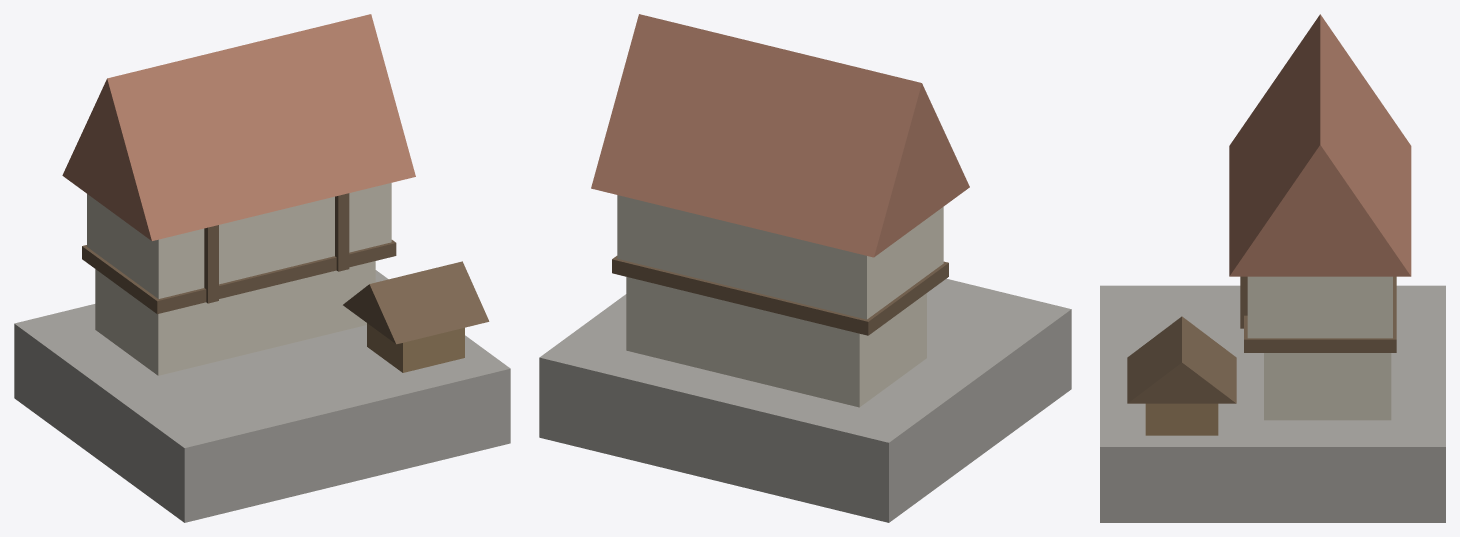
Rendered from house-medieval-1.glb.
The picture shows the model from 3 angles, left to right: view 1: azimuth 30°, elevation 25°; view 2: azimuth 150°, elevation 25°; view 3: azimuth 270°, elevation 25°; orthographic projection. The views are drawn at different scales.
Parts seen in each view (by area): view 1: LOD0; view 2: LOD0; view 3: LOD0.
Part boxes in pixels (bbox=[...]): LOD0: bbox=[14, 14, 510, 522]; LOD0: bbox=[539, 14, 1071, 522]; LOD0: bbox=[1100, 14, 1445, 522].
Size of what is drawn, in the model's own units: 0.21 by 0.22 by 0.19.
